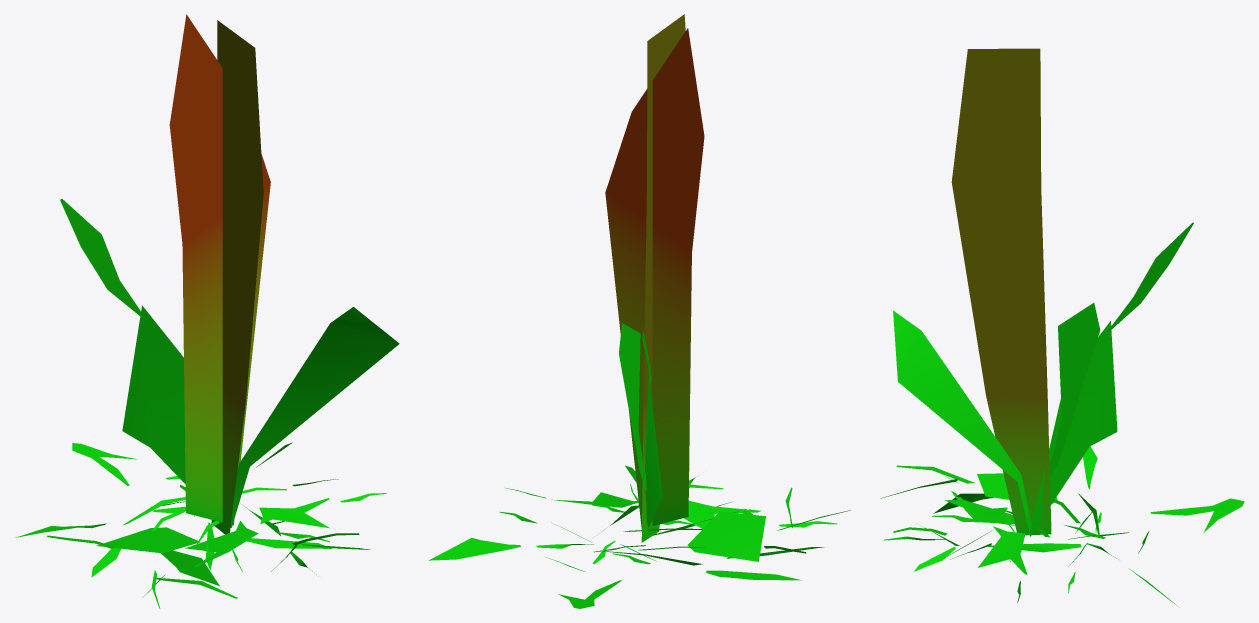
The model's file is Dead Shrubs_LOD1_Var9_vdknafgha.fbx.
3 views of the same model, side by side, from view 1: azimuth 30°, elevation 25°; view 2: azimuth 150°, elevation 25°; view 3: azimuth 270°, elevation 25° (orthographic). The views are drawn at different scales.
Visible parts, largest first — view 1: _2wfr_Var9_LOD1; view 2: _2wfr_Var9_LOD1; view 3: _2wfr_Var9_LOD1.
Part boxes in pixels (box(x1,y1,x2,y2)): _2wfr_Var9_LOD1: box(15, 14, 399, 608); _2wfr_Var9_LOD1: box(428, 14, 850, 608); _2wfr_Var9_LOD1: box(880, 48, 1244, 607).
Size of the model in its own units: 19.72 by 29.58 by 19.24.
